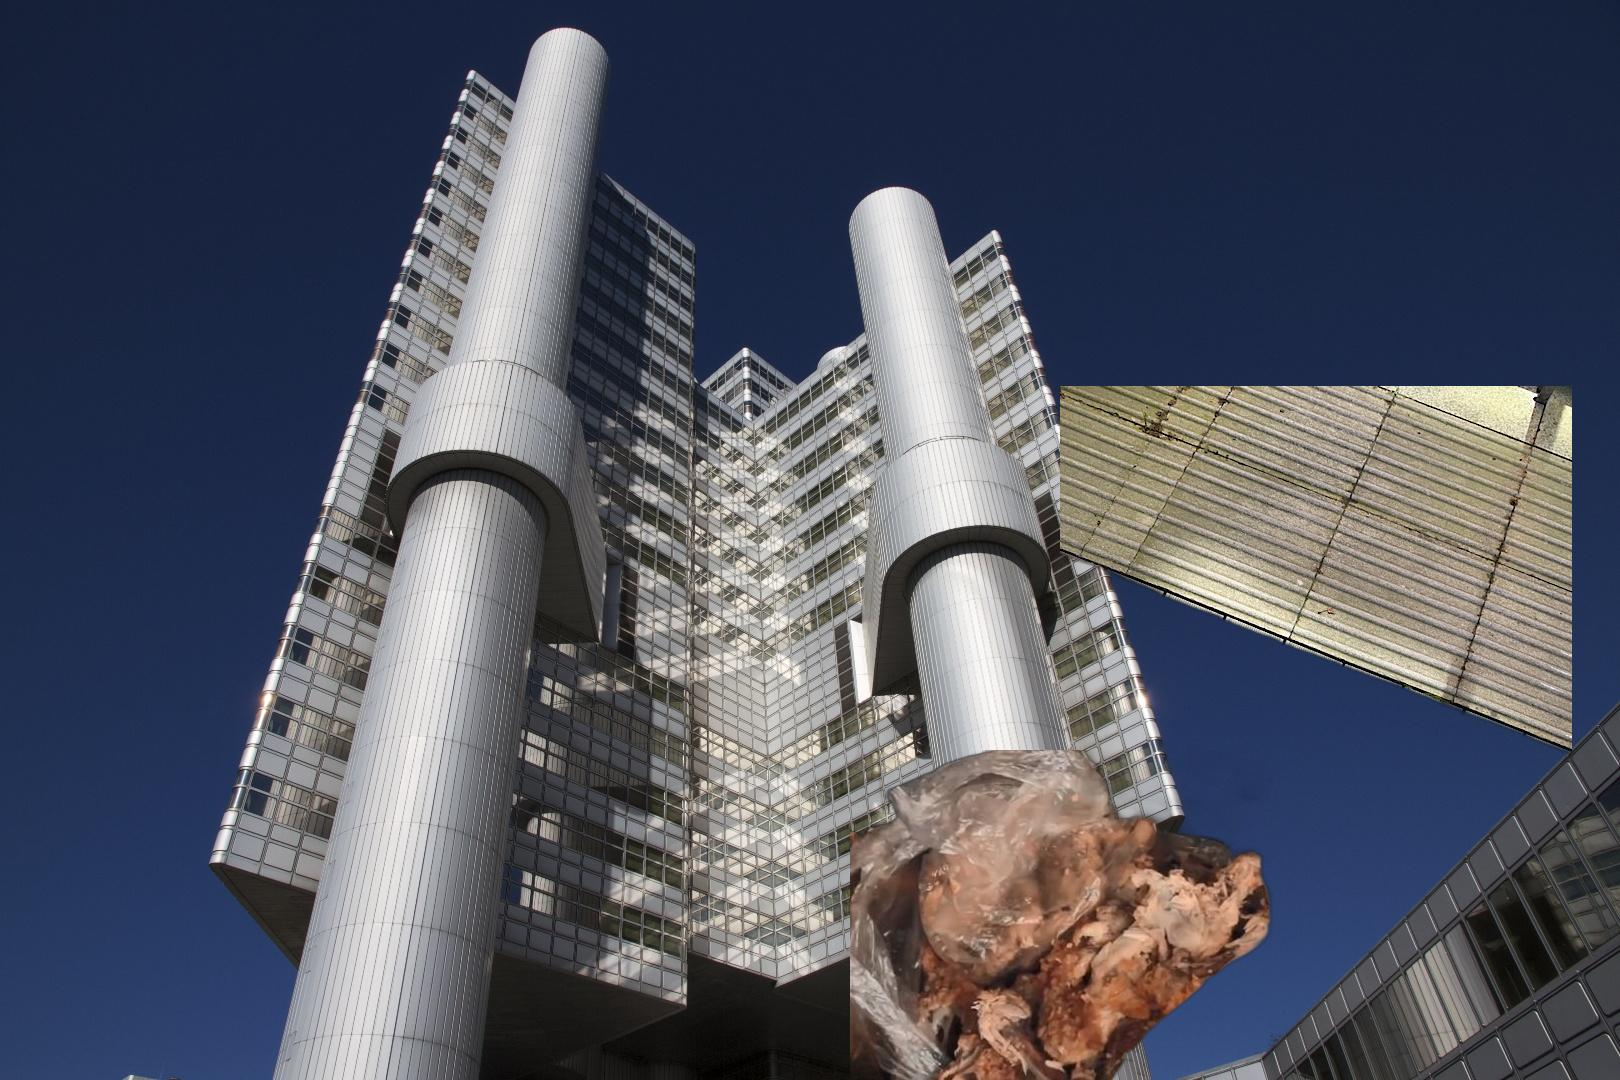biological: (850, 750, 1280, 1080)
plastic-bottles: (1060, 386, 1572, 958)
